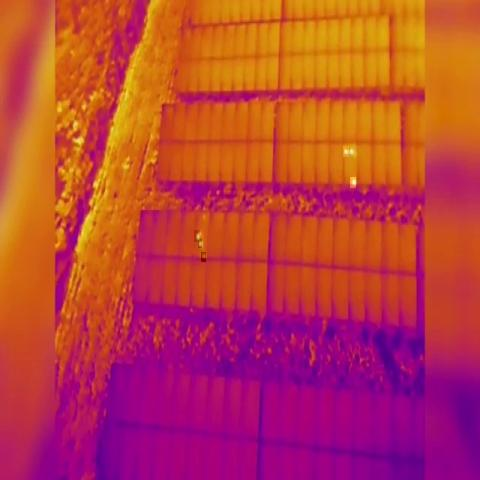fault: (194, 230, 200, 242), (344, 146, 350, 157), (350, 177, 356, 188), (348, 144, 353, 157), (201, 252, 206, 262), (198, 239, 202, 248)
